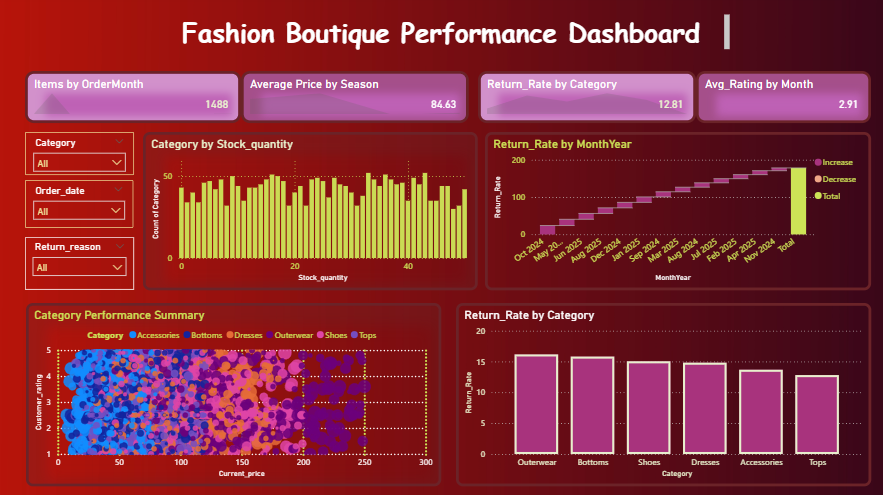

The page's visual inventory and layout, read from the dashboard file:
{"tool":"powerbi","page":{"name":"Overall","canvas":[1280,720],"ordinal":2},"visuals":[{"type":"kpi","title":"Items by OrderMonth","fields":{"Indicator":["Fashion_Data.Total_Items"],"TrendLine":["Fashion_Data.OrderMonth"]},"box":[40.3,108,311,74.9],"z":0},{"type":"kpi","fields":{"Indicator":["Fashion_Data.Avg Price"],"TrendLine":["Fashion_Data.Season"]},"box":[351.4,108,328.3,74.9],"z":1000},{"type":"kpi","fields":{"Indicator":["Fashion_Data.Return_Rate"],"TrendLine":["Fashion_Data.Category"]},"box":[692.6,108,313.9,74.9],"z":2000},{"type":"kpi","fields":{"Indicator":["Fashion_Data.Avg_Rating"],"TrendLine":["DateTable.Month"]},"box":[1006.6,108,252,74.9],"z":3000},{"type":"columnChart","title":"Category by Stock_quantity","fields":{"Category":["Fashion_Data.Stock_quantity"],"Y":["CountNonNull(Fashion_Data.Category)"]},"box":[210.2,195.8,482.4,227.5],"z":4000},{"type":"columnChart","fields":{"Category":["Fashion_Data.Category"],"Y":["Fashion_Data.Return_Rate"]},"box":[661,442.1,597.6,263.5],"z":5000},{"type":"scatterChart","title":"Category Performance Summary","fields":{"X":["Fashion_Data.Current_price"],"Y":["Fashion_Data.Customer_rating"],"Series":["Fashion_Data.Category"],"Size":["Sum(Fashion_Data.Stock_quantity)"]},"box":[41.8,442.1,597.6,263.5],"z":6000},{"type":"waterfallChart","fields":{"Category":["DateTable.MonthYear","Fashion_Data.Customer_rating"],"Y":["Fashion_Data.Return_Rate"]},"box":[702.7,195.8,555.8,227.5],"z":7000},{"type":"slicer","fields":{"Values":["Fashion_Data.Order_date"]},"box":[40.3,265,155.5,69.1],"z":8000},{"type":"slicer","fields":{"Values":["Fashion_Data.Return_reason"]},"box":[40.3,347,157,76.3],"z":9000},{"type":"slicer","fields":{"Values":["Fashion_Data.Category"]},"box":[40.3,195.8,157,61.9],"z":10000},{"type":"textbox","box":[262.1,21.6,797.8,69.1],"z":11000}]}

Visuals, with their boxes in screenshot pixels (x1, y1, x2, y2), scaled from the page's 1280x720 canvas onto the 883x495 screenshot:
"Items by OrderMonth" kpi: BBox(28, 74, 242, 126)
kpi - Fashion_Data.Avg Price x Fashion_Data.Season: BBox(242, 74, 469, 126)
kpi - Fashion_Data.Return_Rate x Fashion_Data.Category: BBox(478, 74, 694, 126)
kpi - Fashion_Data.Avg_Rating x DateTable.Month: BBox(694, 74, 868, 126)
"Category by Stock_quantity" columnChart: BBox(145, 135, 478, 291)
columnChart - Fashion_Data.Category x Fashion_Data.Return_Rate: BBox(456, 304, 868, 485)
"Category Performance Summary" scatterChart: BBox(29, 304, 441, 485)
waterfallChart - DateTable.MonthYear x Fashion_Data.Customer_rating: BBox(485, 135, 868, 291)
slicer - Fashion_Data.Order_date: BBox(28, 182, 135, 230)
slicer - Fashion_Data.Return_reason: BBox(28, 239, 136, 291)
slicer - Fashion_Data.Category: BBox(28, 135, 136, 177)
textbox: BBox(181, 15, 731, 62)
